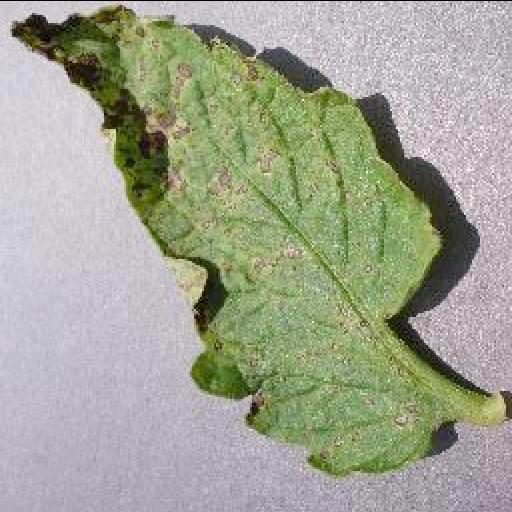disease_tomato: (10, 5, 446, 474)
